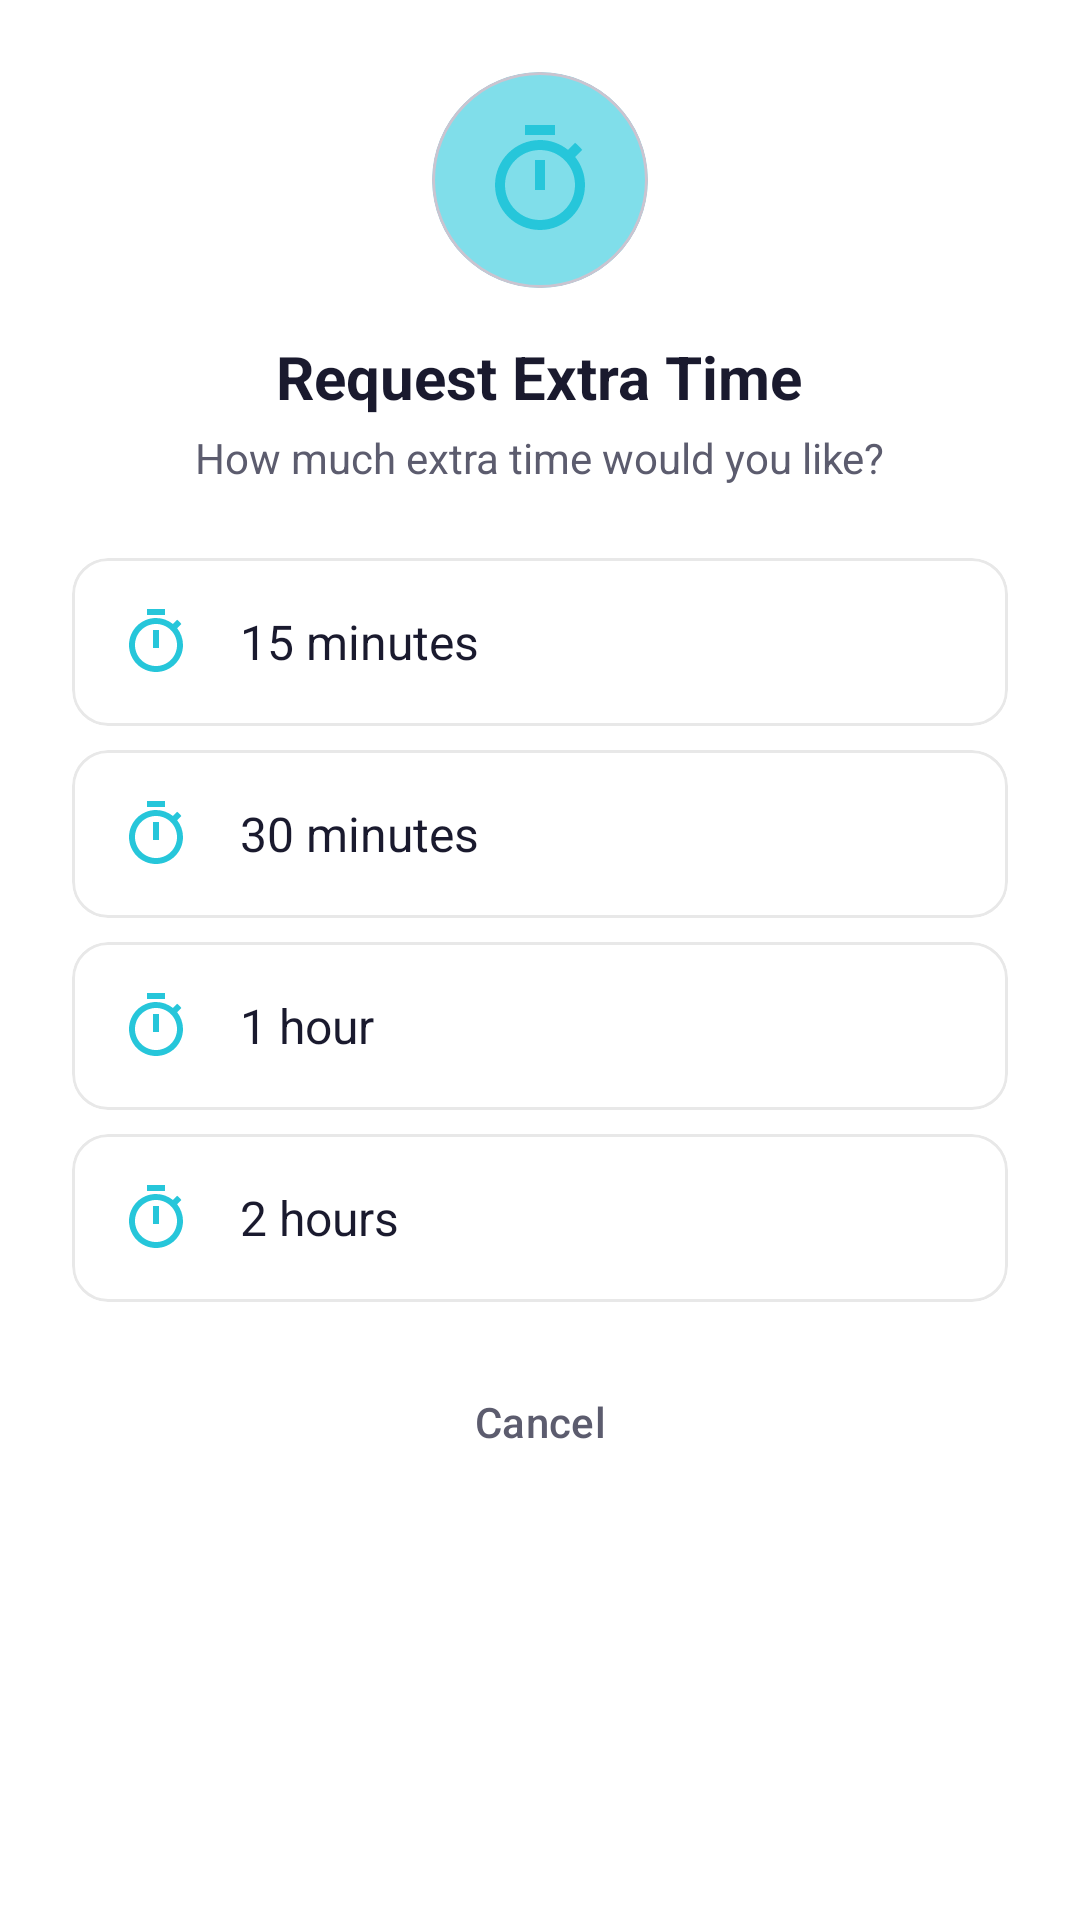

Where to tap for icons on this 1080w x 1920h app screen, as point (x, y):
timer: point (540, 177), point (156, 640), point (156, 832), point (156, 1024), point (156, 1216)
